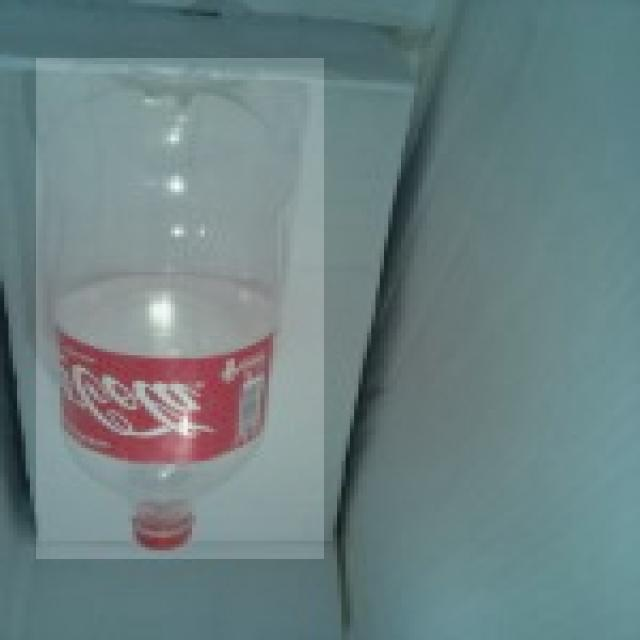bottle: (36, 58, 324, 559)
